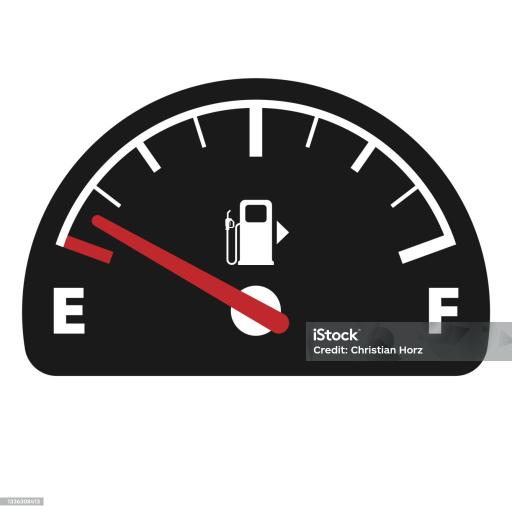empty: (47, 282, 91, 337)
fuel_icon: (222, 198, 290, 270)
full: (421, 283, 466, 338)
guage_area: (18, 72, 497, 388)
needle_center: (218, 280, 298, 350)
needle_tip: (88, 211, 121, 237)
